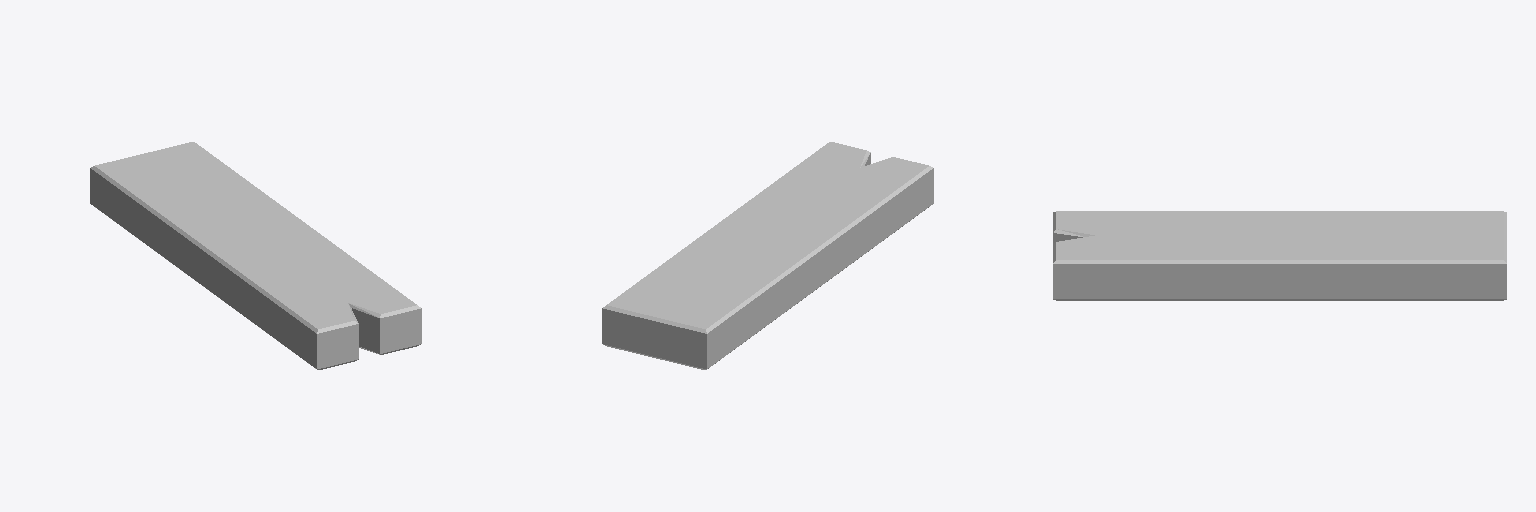
File: Wood_Plank_B.obj
3 renders of one model, left to right at view 1: azimuth 30°, elevation 25°; view 2: azimuth 150°, elevation 25°; view 3: azimuth 270°, elevation 25°, orthographic.
Visible parts, largest first — view 1: Wood_Plank_B; view 2: Wood_Plank_B; view 3: Wood_Plank_B.
Part boxes in pixels (bbox=[...]): Wood_Plank_B: bbox=[90, 142, 421, 369]; Wood_Plank_B: bbox=[602, 142, 933, 369]; Wood_Plank_B: bbox=[1053, 211, 1506, 300].
Bounding box in the file's own units: 0.4 × 0.15 × 1.5.